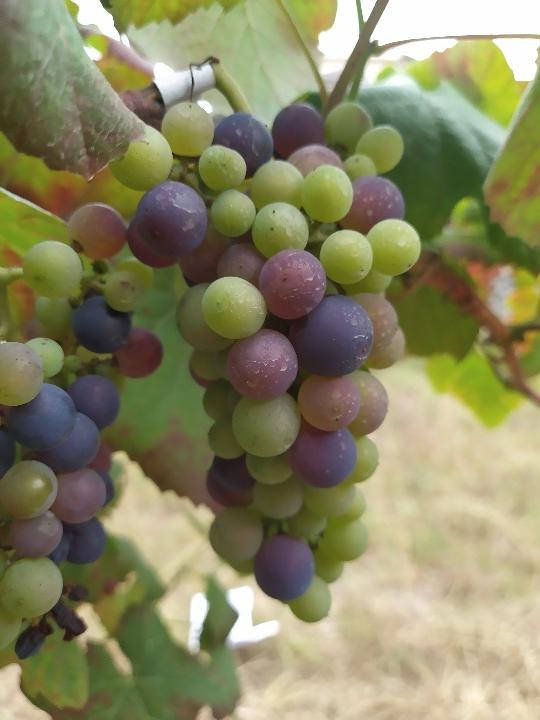grape: (106, 99, 424, 625)
